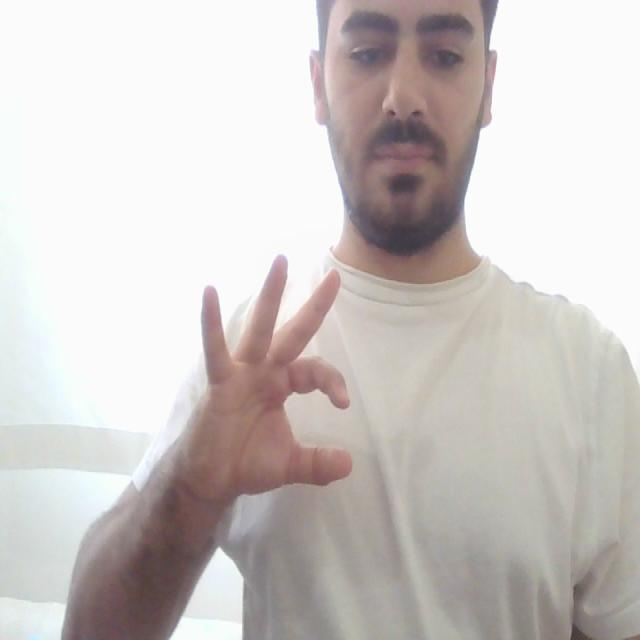Tuvalet: (144, 244, 376, 543)
